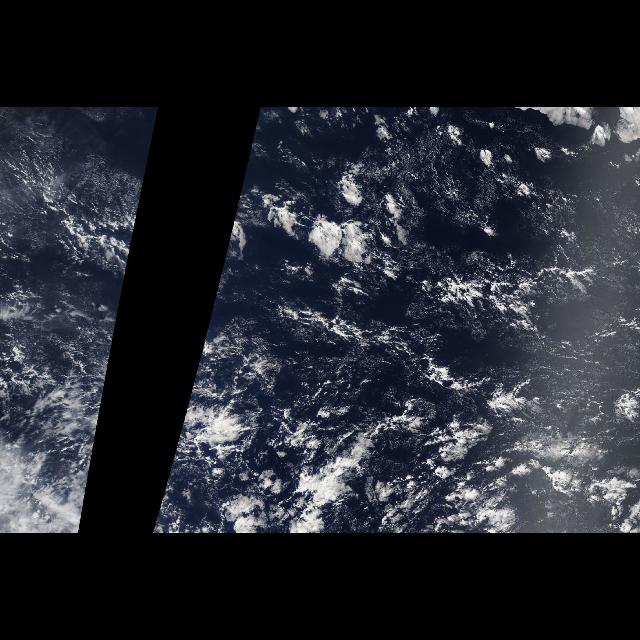Sugar: (206, 280, 640, 420)
